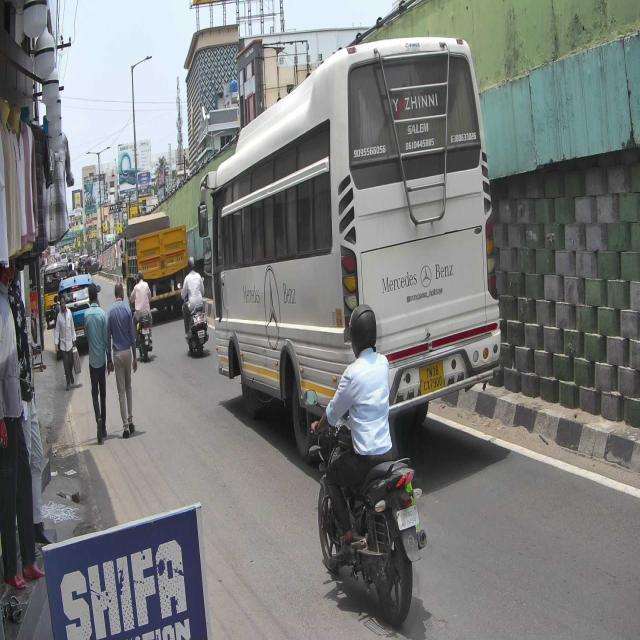single_rider: (308, 304, 428, 629)
